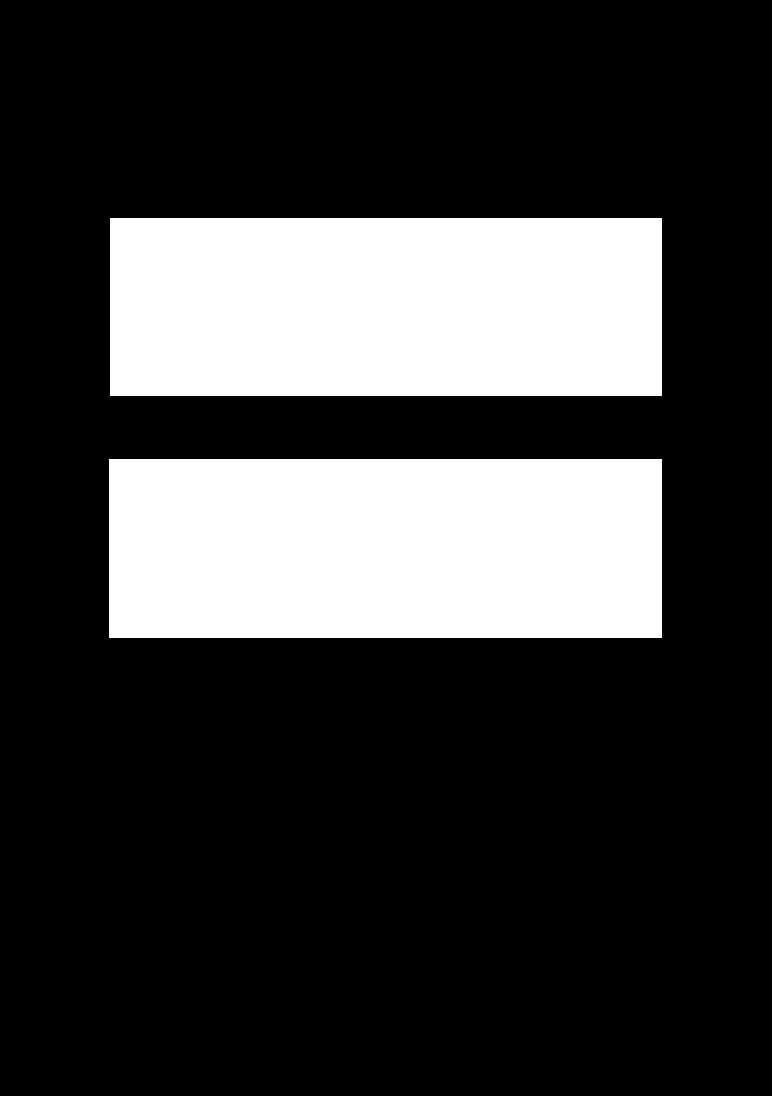table: (109, 459, 661, 637), (110, 218, 661, 395)
